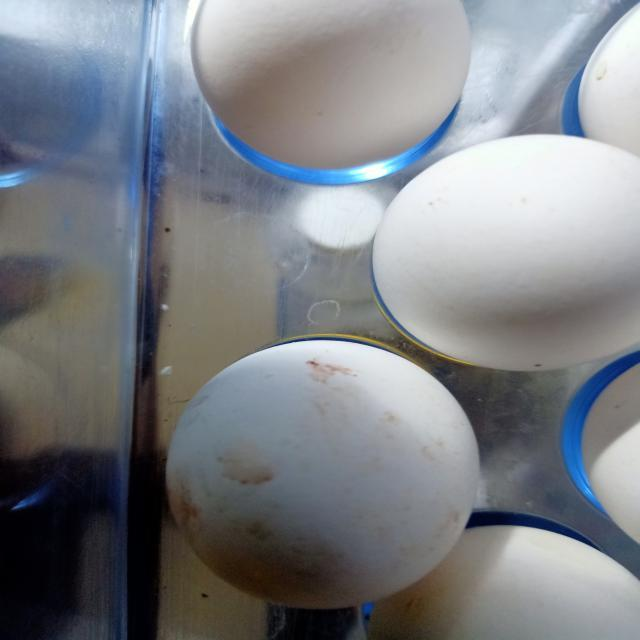Egg: (164, 337, 483, 637), (182, 0, 618, 192), (368, 134, 640, 376)
